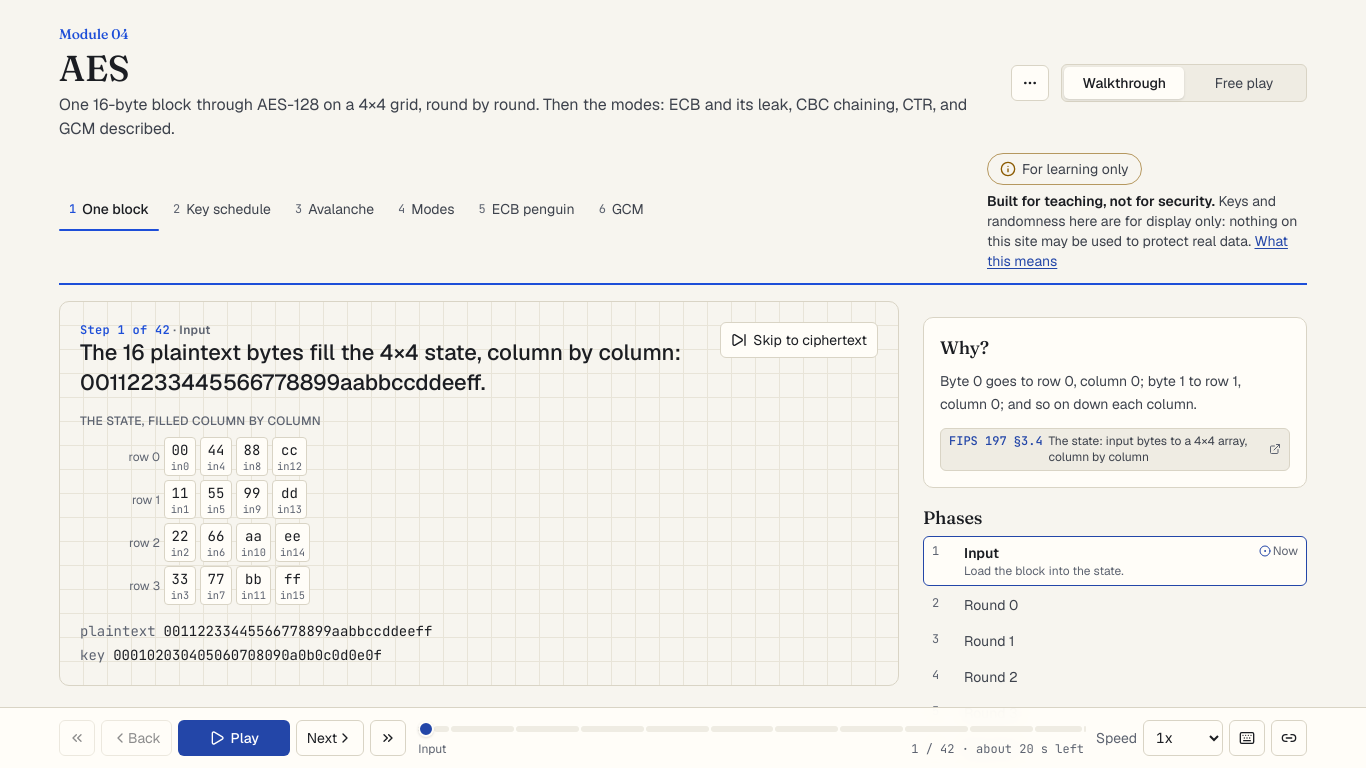
Test: AesModule › skips to the FIPS 197 C.1 ciphertext
This screenshot has width=1366, height=768.
What coordinates should you click on to do the following:
click the button "Skip to ciphertext"
I would click on:
 (799, 340)
Its box is [720,322,878,358].
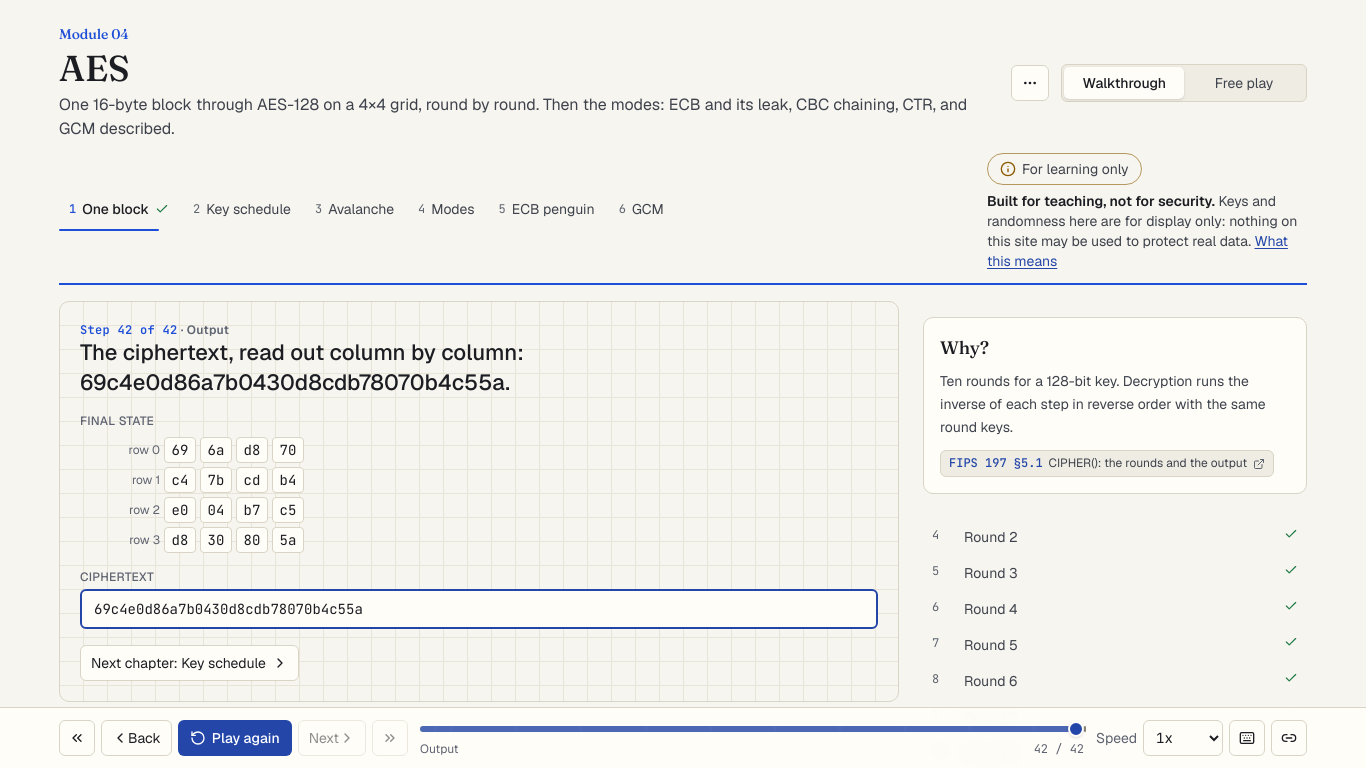
Expected: the element with test id "aes-ciphertext" shows "69c4e0d86a7b0430d8cdb78070b4c55a", [94,600,363,618]
